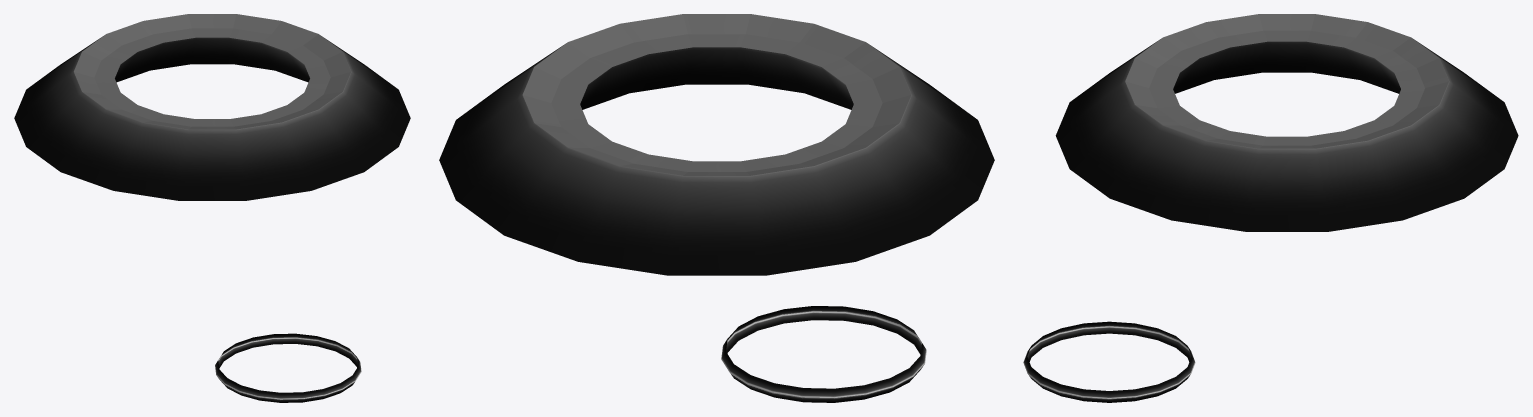
Rendered from ts_mrt_gow001.FBX.
The picture shows the model from 3 angles, left to right: view 1: azimuth 30°, elevation 25°; view 2: azimuth 150°, elevation 25°; view 3: azimuth 270°, elevation 25°; orthographic projection. The views are drawn at different scales.
Visible parts, largest first — view 1: ts_mrt_gow001; view 2: ts_mrt_gow001; view 3: ts_mrt_gow001.
Part boxes in pixels (x1=…): ts_mrt_gow001: x1=14, y1=14, x2=410, y2=402; ts_mrt_gow001: x1=439, y1=14, x2=994, y2=402; ts_mrt_gow001: x1=1023, y1=14, x2=1518, y2=402.
Size of the model in its own units: 6.2 by 4.31 by 6.74.
Materials: 1 (1 with a texture image).
